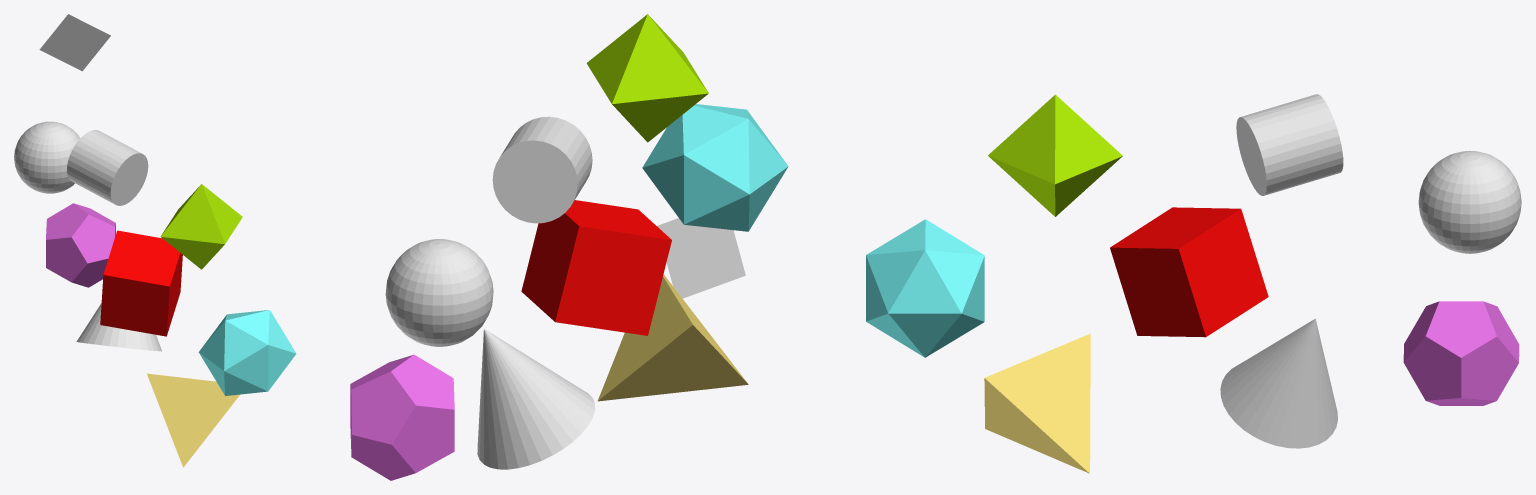
File: ussse.glb
3 renders of one model, left to right at view 1: azimuth 30°, elevation 25°; view 2: azimuth 150°, elevation 25°; view 3: azimuth 270°, elevation 25°, orthographic. The views are drawn at different scales.
Parts seen in each view (by area): view 1: instance_0, instance_3, instance_4, instance_1, Cylinder, instance_2, Sphere, Plane.001, Cone; view 2: instance_0, instance_3, Cone, instance_4, Sphere, instance_1, instance_2, Cylinder, Plane; view 3: instance_0, instance_3, Cone, instance_1, instance_4, instance_2, Sphere, Cylinder.
Part boxes in pixels (left/top/right/bottom): instance_0: left=100, top=230, right=182, bottom=336; instance_3: left=198, top=310, right=296, bottom=395; instance_4: left=46, top=203, right=115, bottom=287; instance_1: left=147, top=373, right=239, bottom=467; Cylinder: left=67, top=130, right=148, bottom=205; instance_2: left=160, top=184, right=242, bottom=269; Sphere: left=14, top=121, right=80, bottom=193; Plane.001: left=39, top=14, right=110, bottom=71; Cone: left=76, top=303, right=161, bottom=351; instance_0: left=521, top=200, right=671, bottom=335; instance_3: left=642, top=104, right=788, bottom=231; Cone: left=477, top=329, right=594, bottom=469; instance_4: left=350, top=354, right=454, bottom=480; Sphere: left=385, top=239, right=493, bottom=346; instance_1: left=597, top=274, right=748, bottom=401; instance_2: left=586, top=14, right=708, bottom=142; Cylinder: left=492, top=116, right=592, bottom=223; Plane: left=657, top=218, right=745, bottom=298; instance_0: left=1110, top=207, right=1268, bottom=337; instance_3: left=866, top=219, right=984, bottom=357; Cone: left=1220, top=318, right=1337, bottom=448; instance_1: left=984, top=333, right=1090, bottom=473; instance_4: left=1403, top=301, right=1519, bottom=405; instance_2: left=988, top=94, right=1122, bottom=216; Sphere: left=1418, top=150, right=1521, bottom=253; Cylinder: left=1236, top=94, right=1343, bottom=195.
Size of the model in its own units: 2.46 by 6.5 by 9.18.
